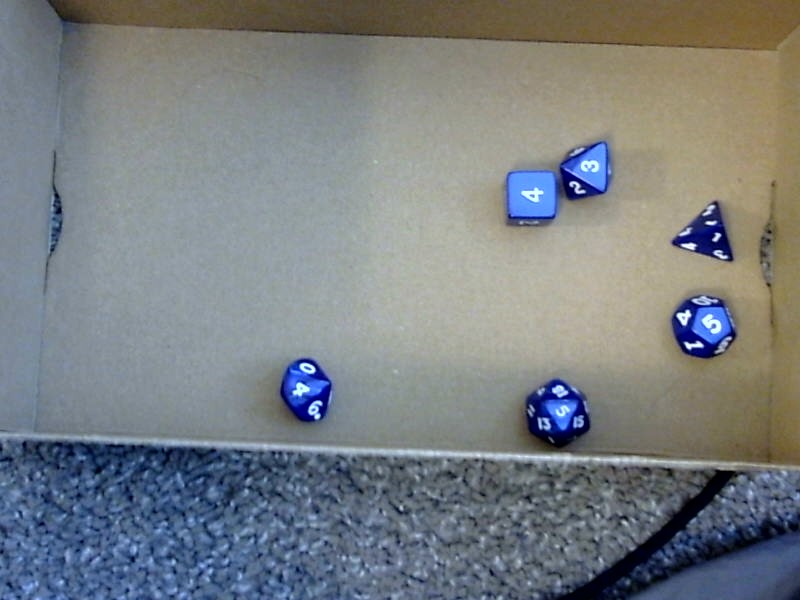d10 4: (275, 352, 334, 427)
d12 5: (667, 289, 739, 360)
d20 5: (519, 374, 594, 446)
d4 1: (674, 192, 733, 269)
d6 4: (498, 166, 558, 229)
d8 3: (562, 133, 614, 200)
